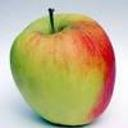apple: (10, 6, 116, 128)
